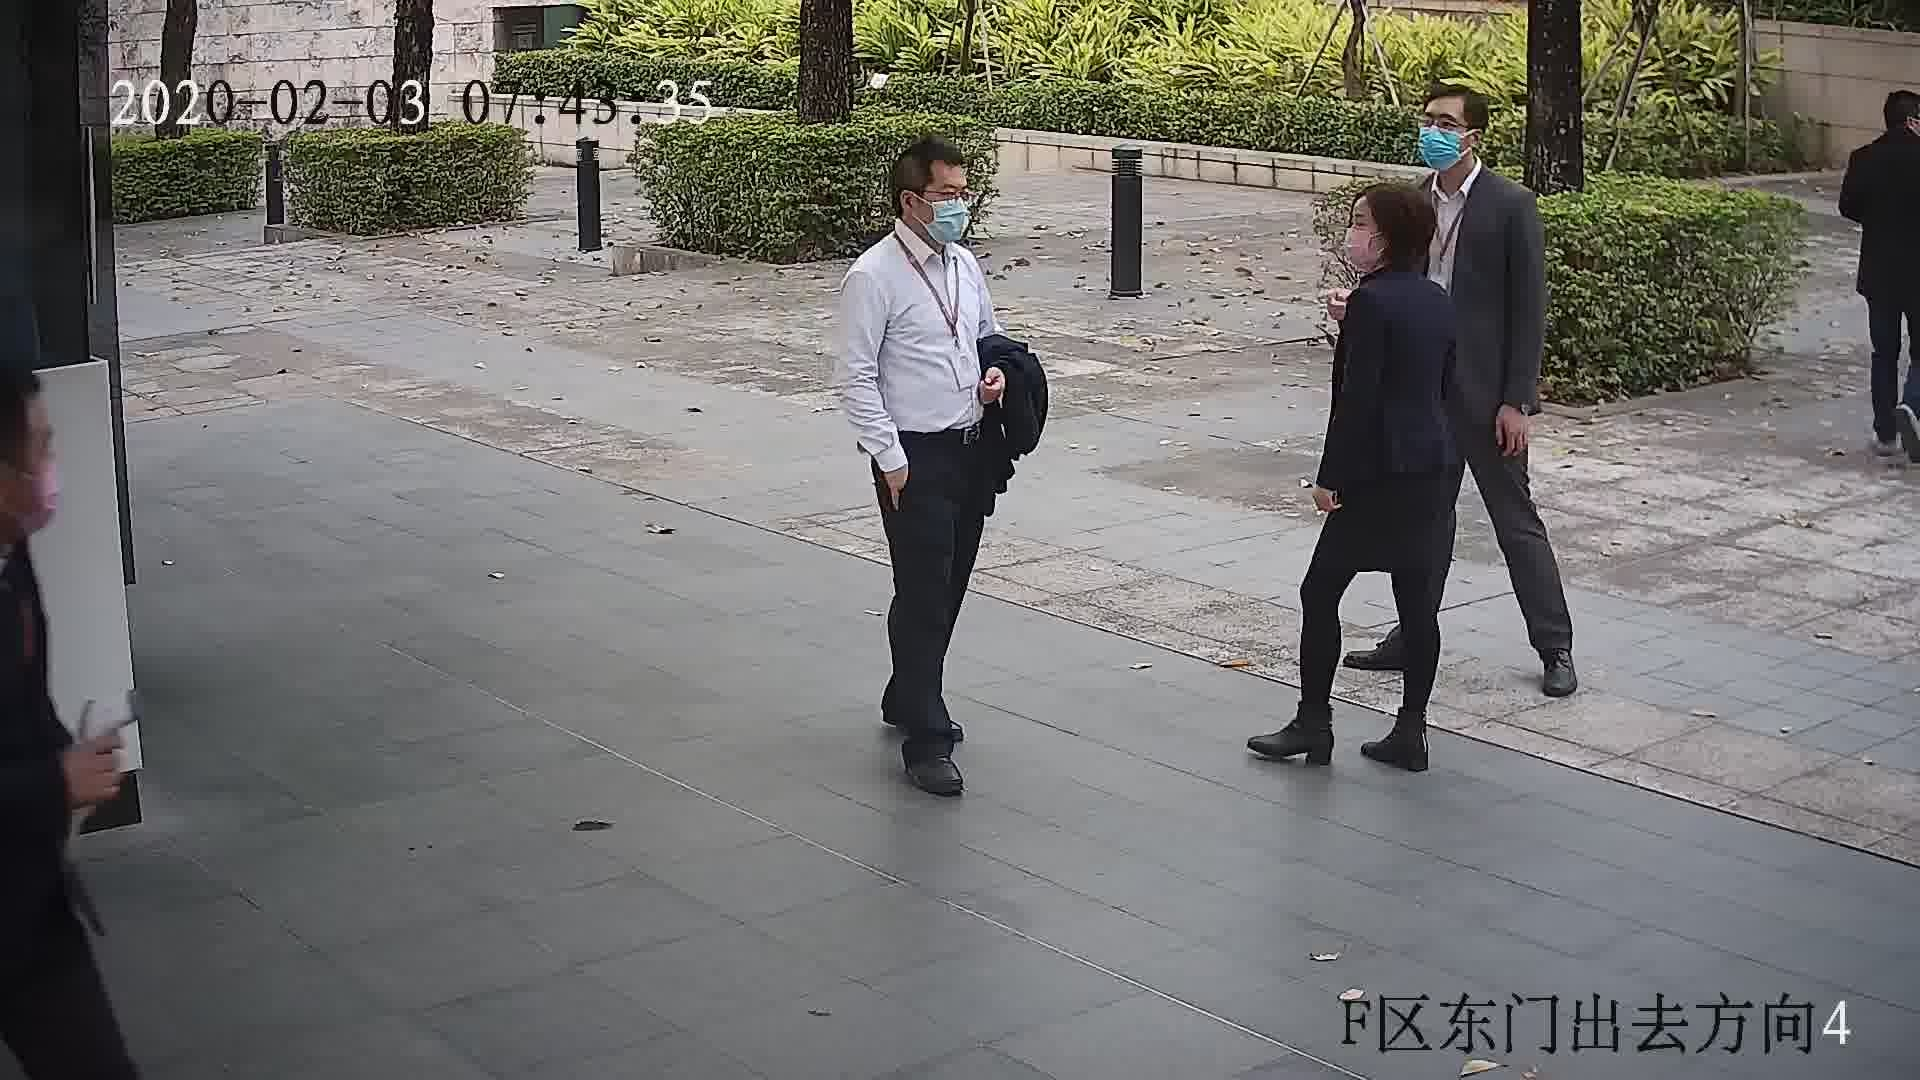face: (904, 160, 975, 236), (1411, 96, 1470, 174), (1332, 198, 1390, 269)
mask: (21, 453, 65, 531), (1413, 124, 1463, 170), (926, 196, 969, 247), (1341, 223, 1381, 274)
person: (846, 139, 984, 295), (1338, 177, 1463, 332), (1404, 91, 1536, 221), (4, 355, 61, 618), (1849, 85, 1920, 178)
